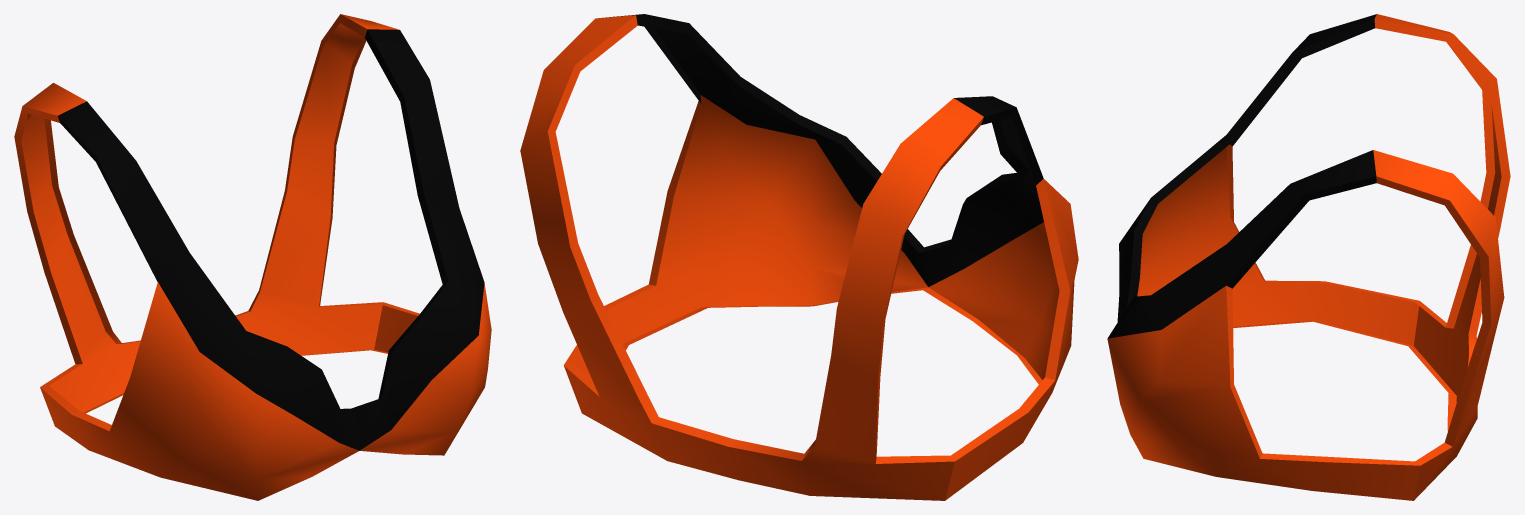
File: Bra03.001.fbx
3 views of the same model, side by side, from view 1: azimuth 30°, elevation 25°; view 2: azimuth 150°, elevation 25°; view 3: azimuth 270°, elevation 25° (orthographic). The views are drawn at different scales.
Visible parts, largest first — view 1: Bra03.001; view 2: Bra03.001; view 3: Bra03.001.
Part boxes in pixels (<box>): Bra03.001: <box>14,14,491,500</box>; Bra03.001: <box>520,14,1078,500</box>; Bra03.001: <box>1107,14,1510,500</box>.
Bounding box in the file's own units: 29.25 × 25.73 × 27.48.
